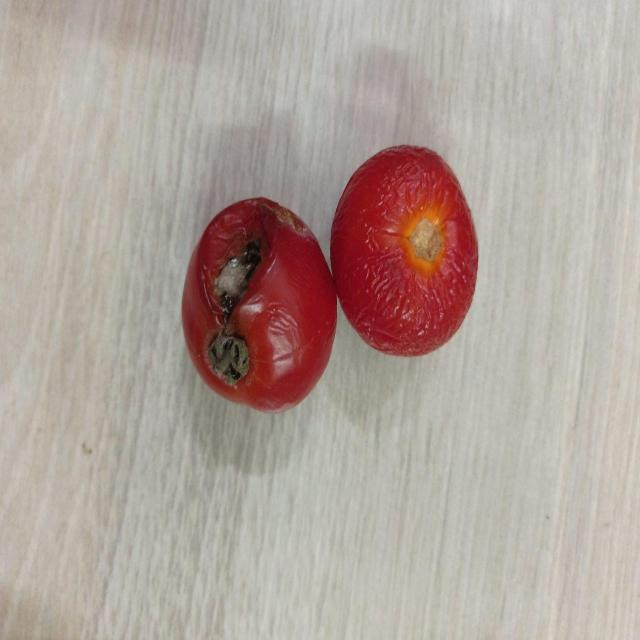Rotten: (180, 197, 336, 412)
overripe: (332, 144, 478, 358)
